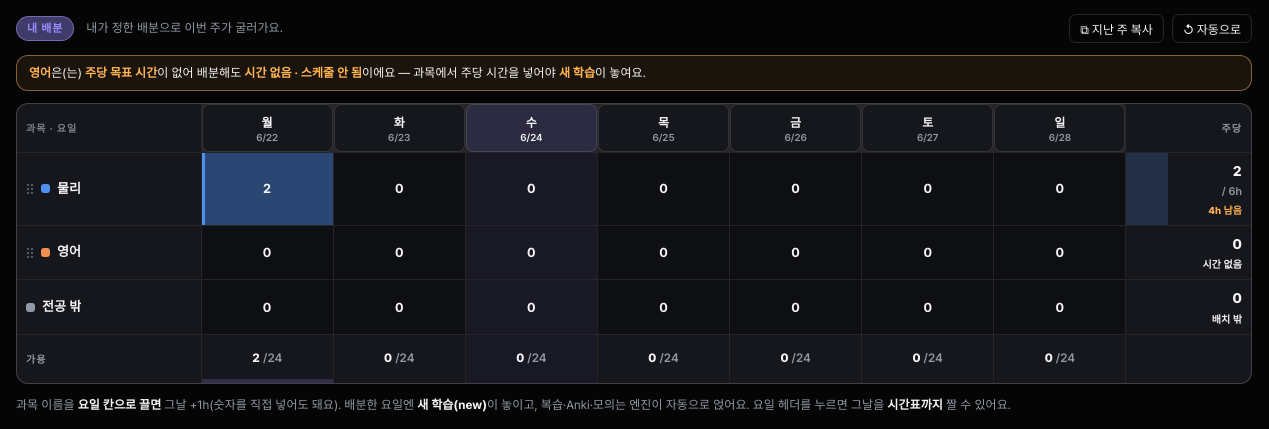
Test: AllocBoard — 셀 편집이 weekAlloc 계약대로 쓴다 › 자동으로 되돌리기: managed 주를 지워 자동 제안으로 복귀한다
The image size is (1269, 429).
Click the button "↺ 자동으로": (1212, 28) [1172,14,1252,43]
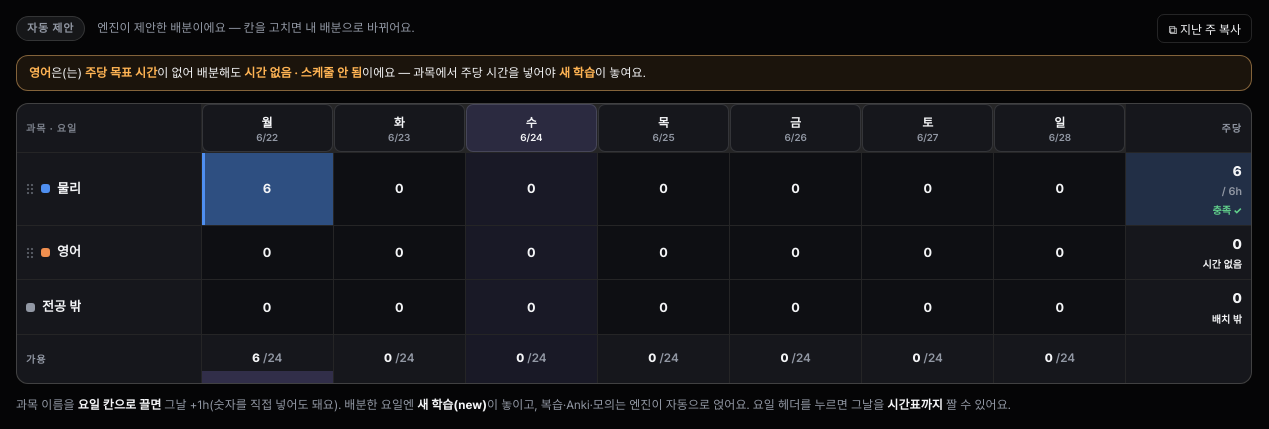
Expected: the text "자동 제안" is shown, [16,16,85,41]
